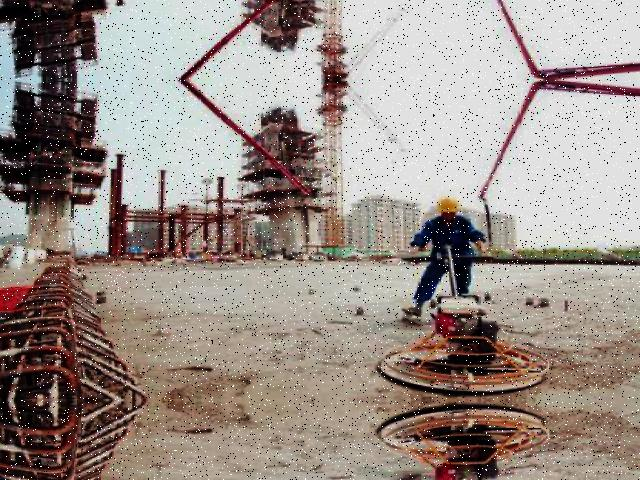Helmet: (430, 193, 463, 219)
